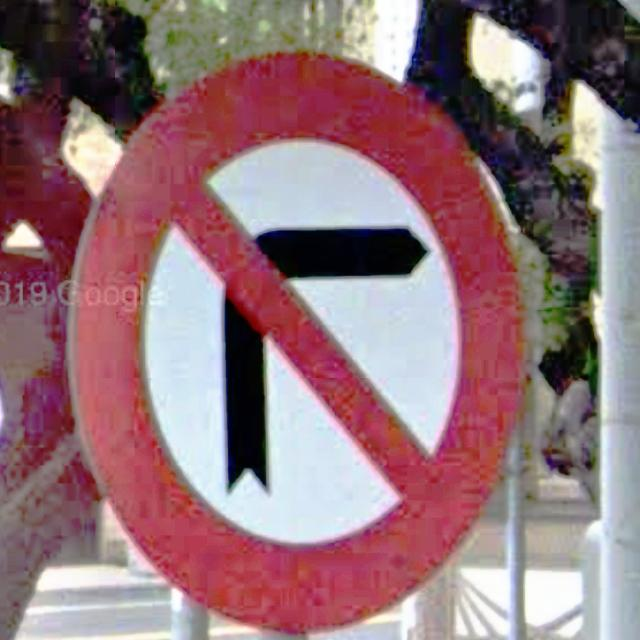noturnright: (71, 52, 527, 637)
